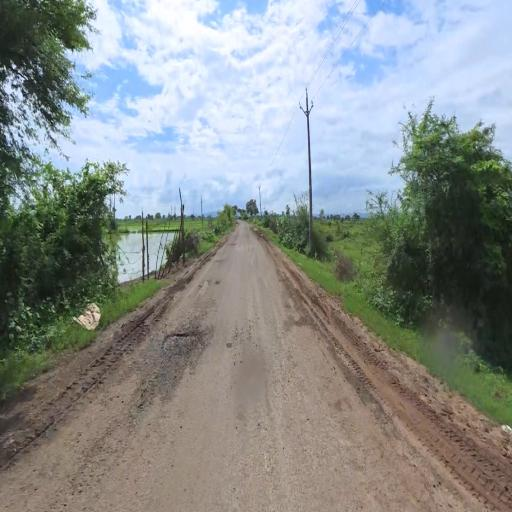ravelling: (153, 312, 209, 379)
